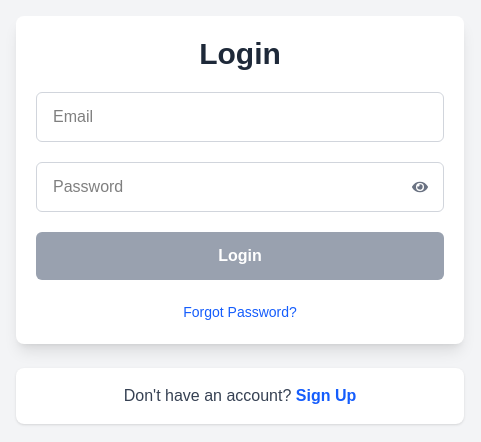
Scenario: Auth Component › submit button becomes enabled after filling email and password
Type "test@test.com" into the field with placeholder "Email" at x=240, y=117, box x1=36 y1=92 x2=444 y2=142
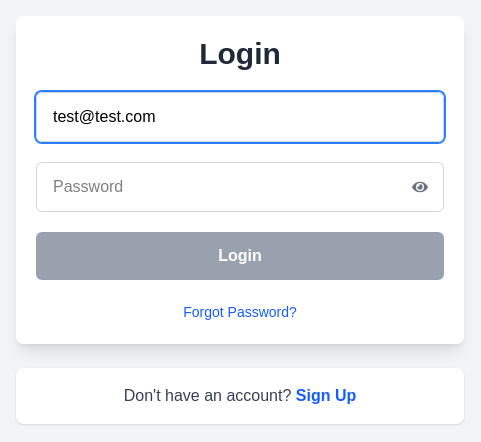
Type "password123" into the password field with placeholder "Password" at x=240, y=187, box x1=36 y1=162 x2=444 y2=212
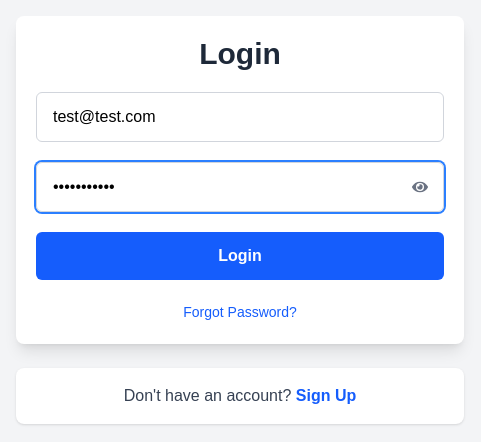
Now the button "Login" is enabled, box x1=36 y1=232 x2=444 y2=280
